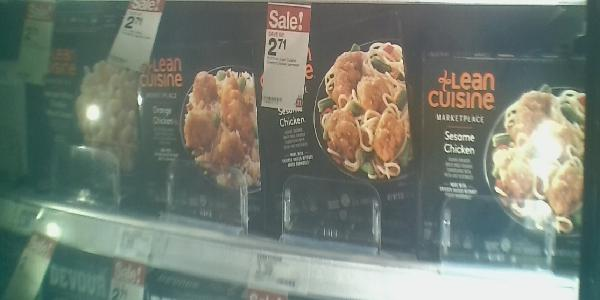pizza1: (272, 17, 417, 250), (421, 52, 589, 247), (20, 13, 143, 209), (141, 51, 267, 233)
